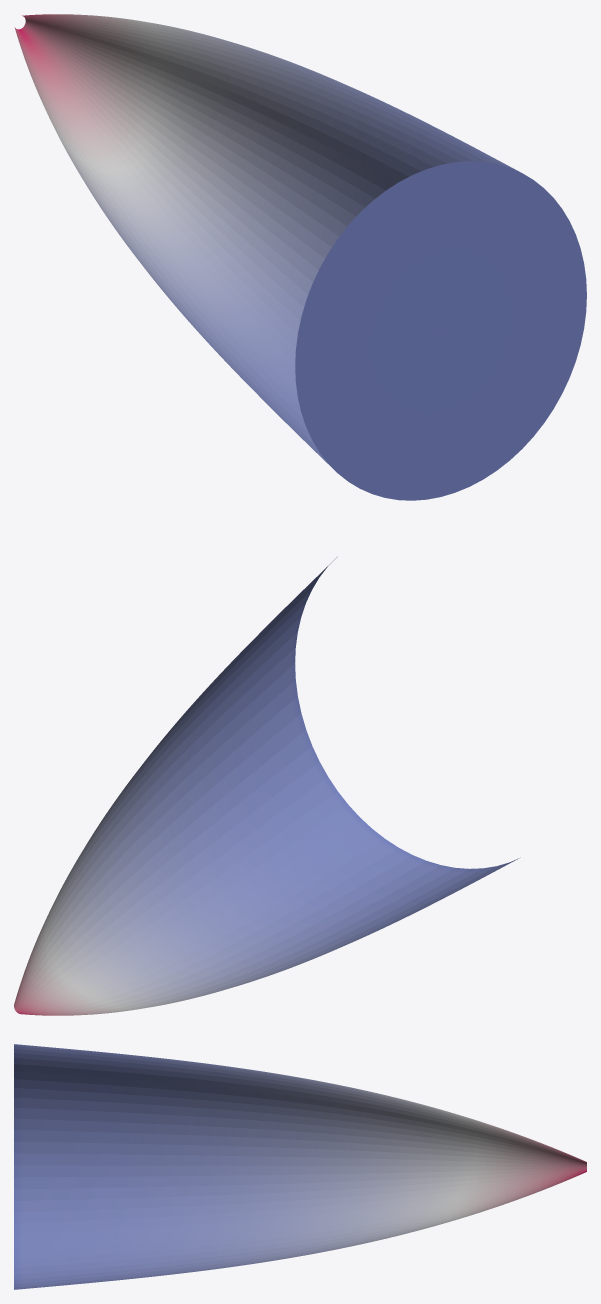
File: frame_013.glb
3 renders of one model, top to bottom at view 1: azimuth 30°, elevation 25°; view 2: azimuth 150°, elevation 25°; view 3: azimuth 270°, elevation 25°, orthographic. The views are drawn at different scales.
Visible parts, largest first — view 1: world; view 2: world; view 3: world.
Boxes of the visible parts, x1,y1,x2,y2 form: world: (14, 14, 586, 500); world: (14, 556, 520, 1015); world: (14, 1044, 586, 1289).
Bounding box in the file's own units: 0.4 × 0.435 × 1.
